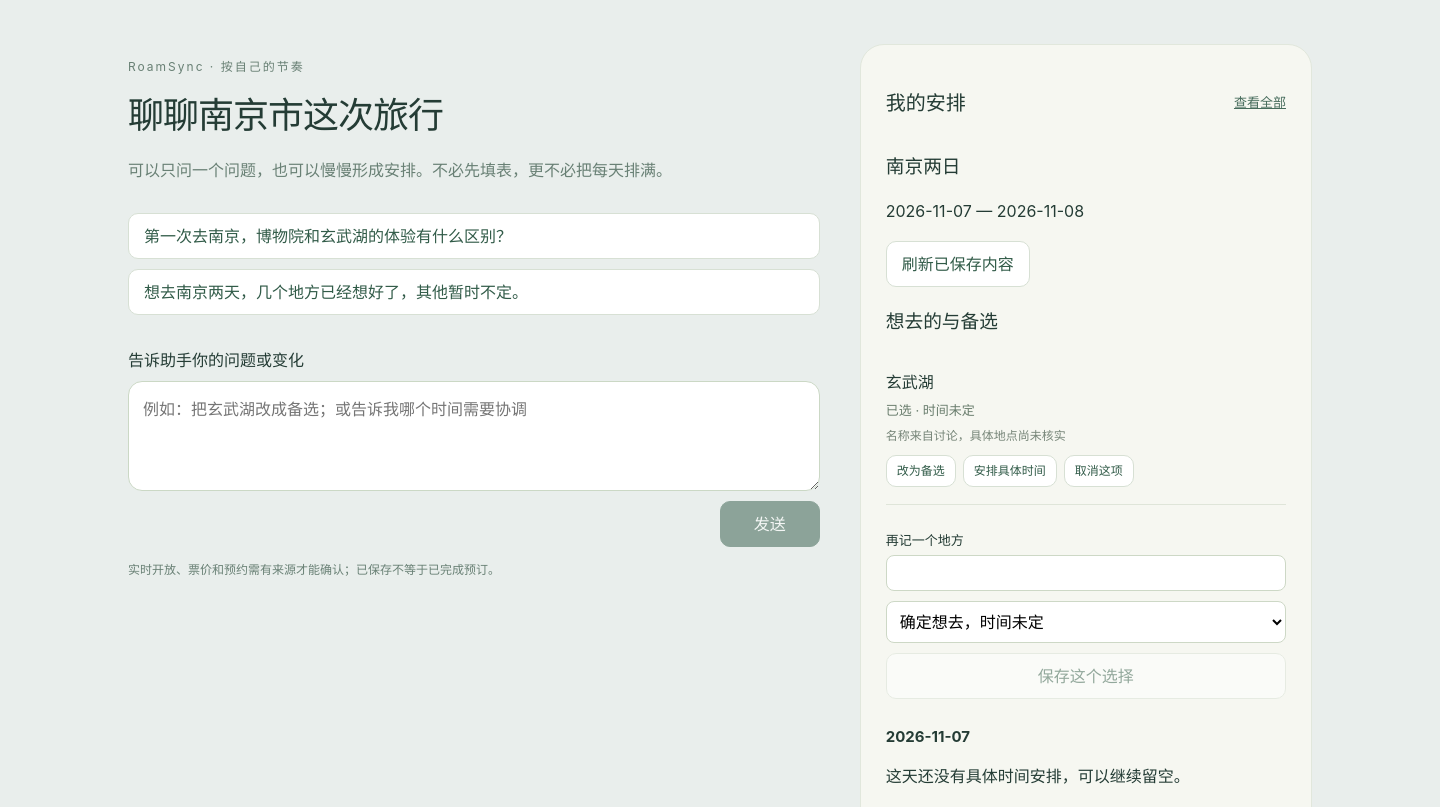
natural assistant result boundary › persists a page decision with the displayed version and reloads the common result
The width and height of the screenshot is (1440, 807).
Click the button "改为备选". click: (921, 471)
box: x1=886 y1=455 x2=956 y2=487
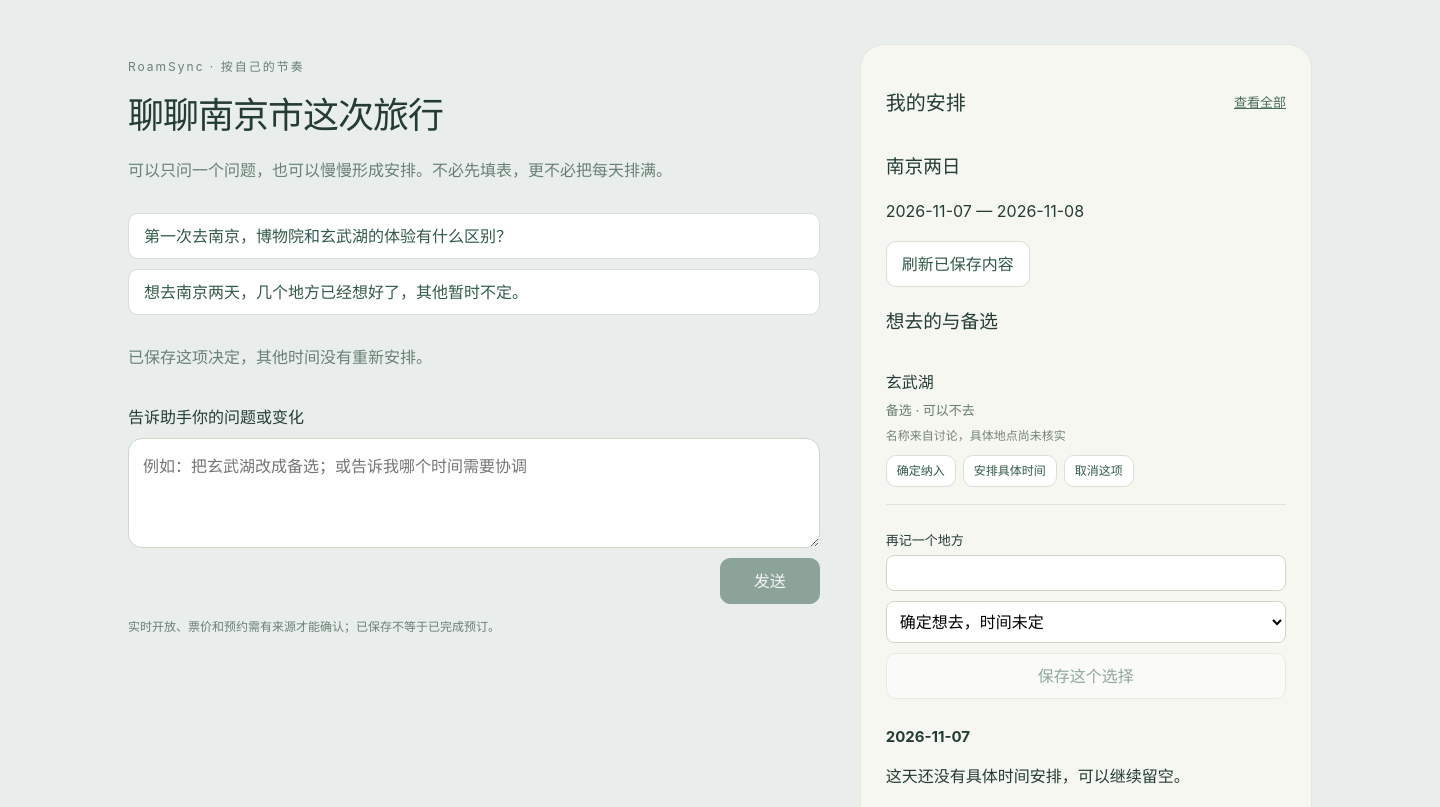
Expected: the text "备选 · 可以不去" is shown, x1=886 y1=402 x2=975 y2=418
Expected: the text "已保存这项决定，其他时间没有重新安排。" is shown, x1=128 y1=347 x2=432 y2=367
